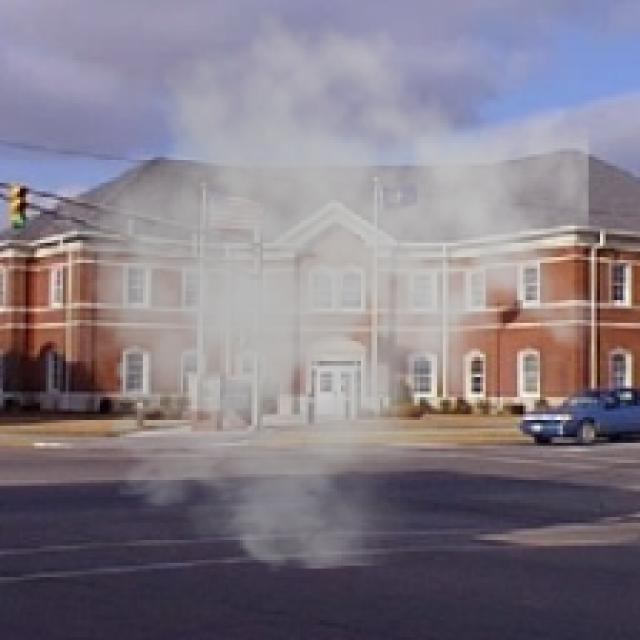Smoke: (34, 6, 589, 572)
